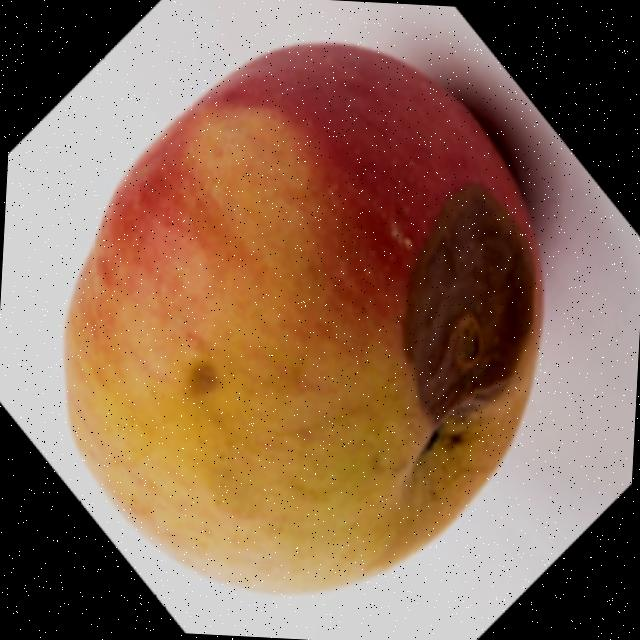Rotten: (49, 26, 568, 611)
